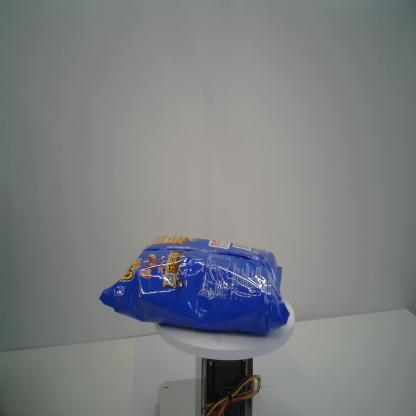Puffed Food: (100, 235, 290, 335)
